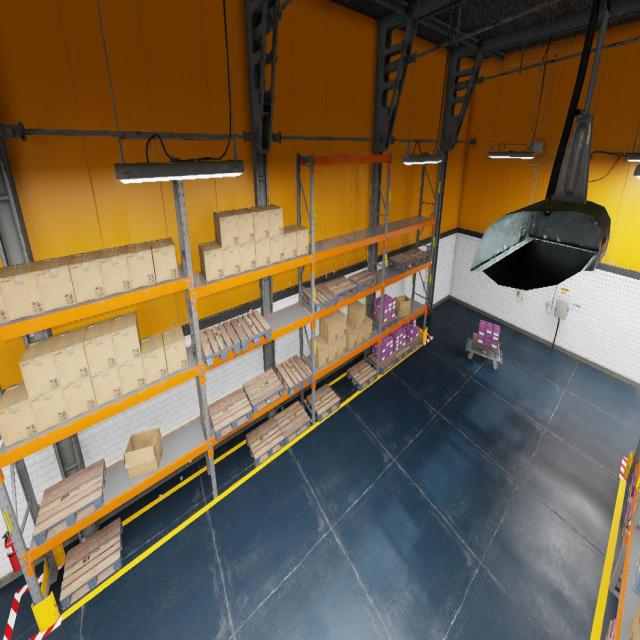box: (0, 260, 45, 321), (19, 334, 61, 399), (0, 381, 39, 447), (35, 255, 77, 312), (53, 326, 90, 386), (68, 250, 105, 304), (124, 427, 162, 479), (83, 318, 117, 375), (29, 387, 69, 432), (99, 245, 132, 296), (111, 311, 141, 365), (61, 374, 97, 419), (117, 343, 146, 395), (140, 332, 168, 384), (126, 241, 156, 289), (90, 365, 122, 406), (162, 326, 188, 374), (150, 238, 178, 282), (198, 241, 224, 282), (213, 210, 239, 248), (230, 208, 254, 244), (246, 206, 270, 241), (261, 204, 283, 237), (287, 224, 309, 256), (222, 244, 241, 276), (310, 335, 328, 368), (0, 266, 10, 324), (319, 314, 338, 344), (347, 300, 366, 328), (239, 241, 256, 272), (254, 238, 270, 267), (283, 227, 297, 260), (347, 320, 365, 345), (330, 310, 346, 338), (270, 234, 284, 264), (629, 601, 640, 639), (321, 337, 337, 362), (394, 295, 411, 317), (346, 320, 357, 350), (337, 334, 346, 357), (364, 315, 372, 340), (633, 623, 640, 639)
pallets: (33, 458, 106, 546), (59, 517, 122, 610), (208, 388, 252, 440), (242, 368, 284, 414), (246, 417, 284, 467), (200, 321, 240, 366), (230, 310, 271, 351), (274, 400, 310, 444), (276, 354, 312, 396), (306, 383, 340, 422), (302, 284, 337, 312), (347, 359, 377, 391), (322, 276, 358, 302), (472, 333, 499, 359), (348, 270, 378, 292), (368, 354, 397, 374), (388, 253, 417, 271), (369, 313, 398, 331), (402, 248, 430, 265), (616, 537, 624, 590), (620, 503, 630, 544), (632, 552, 640, 596), (392, 343, 410, 362), (405, 336, 423, 352), (626, 475, 634, 510), (606, 620, 612, 639)
